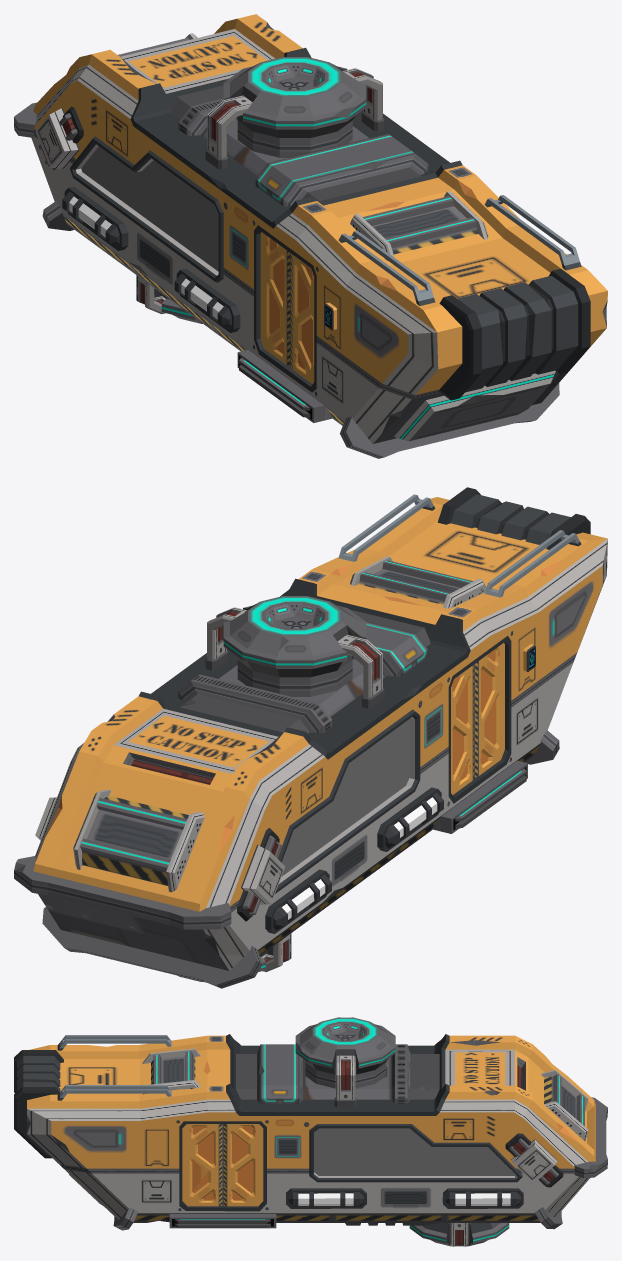
File: SM_Veh_Train_Middle_01.fbx
The picture shows the model from 3 angles, top to bottom: view 1: azimuth 30°, elevation 25°; view 2: azimuth 150°, elevation 25°; view 3: azimuth 270°, elevation 25°; orthographic projection. The views are drawn at different scales.
Visible parts, largest first — view 1: SM_Veh_Train_Middle_01; view 2: SM_Veh_Train_Middle_01; view 3: SM_Veh_Train_Middle_01.
Boxes of the visible parts, x1,y1,x2,y2 form: SM_Veh_Train_Middle_01: [14, 14, 607, 458]; SM_Veh_Train_Middle_01: [14, 487, 607, 988]; SM_Veh_Train_Middle_01: [14, 1017, 607, 1246].
Size of the model in its own units: 386 by 473 by 1268.
